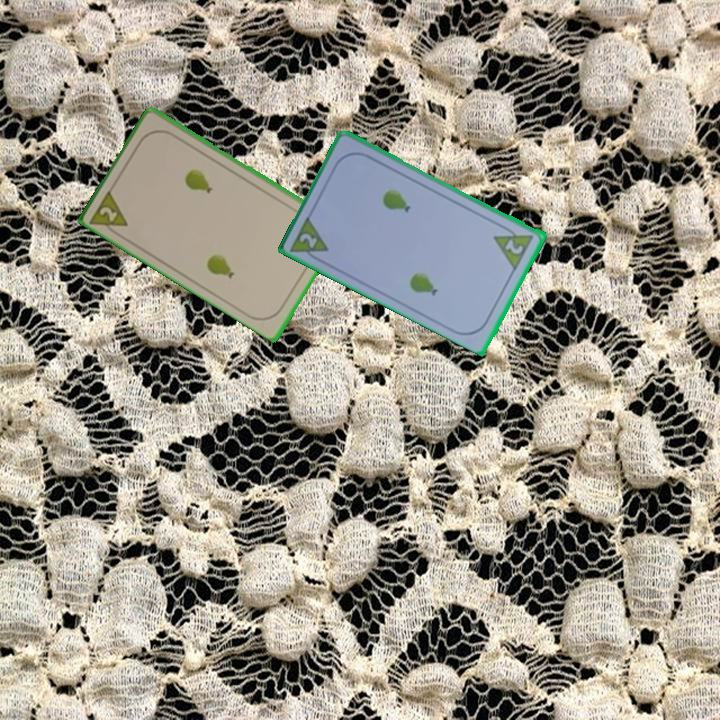2p: (87, 185, 132, 240), (491, 221, 537, 271), (296, 229, 321, 251)
